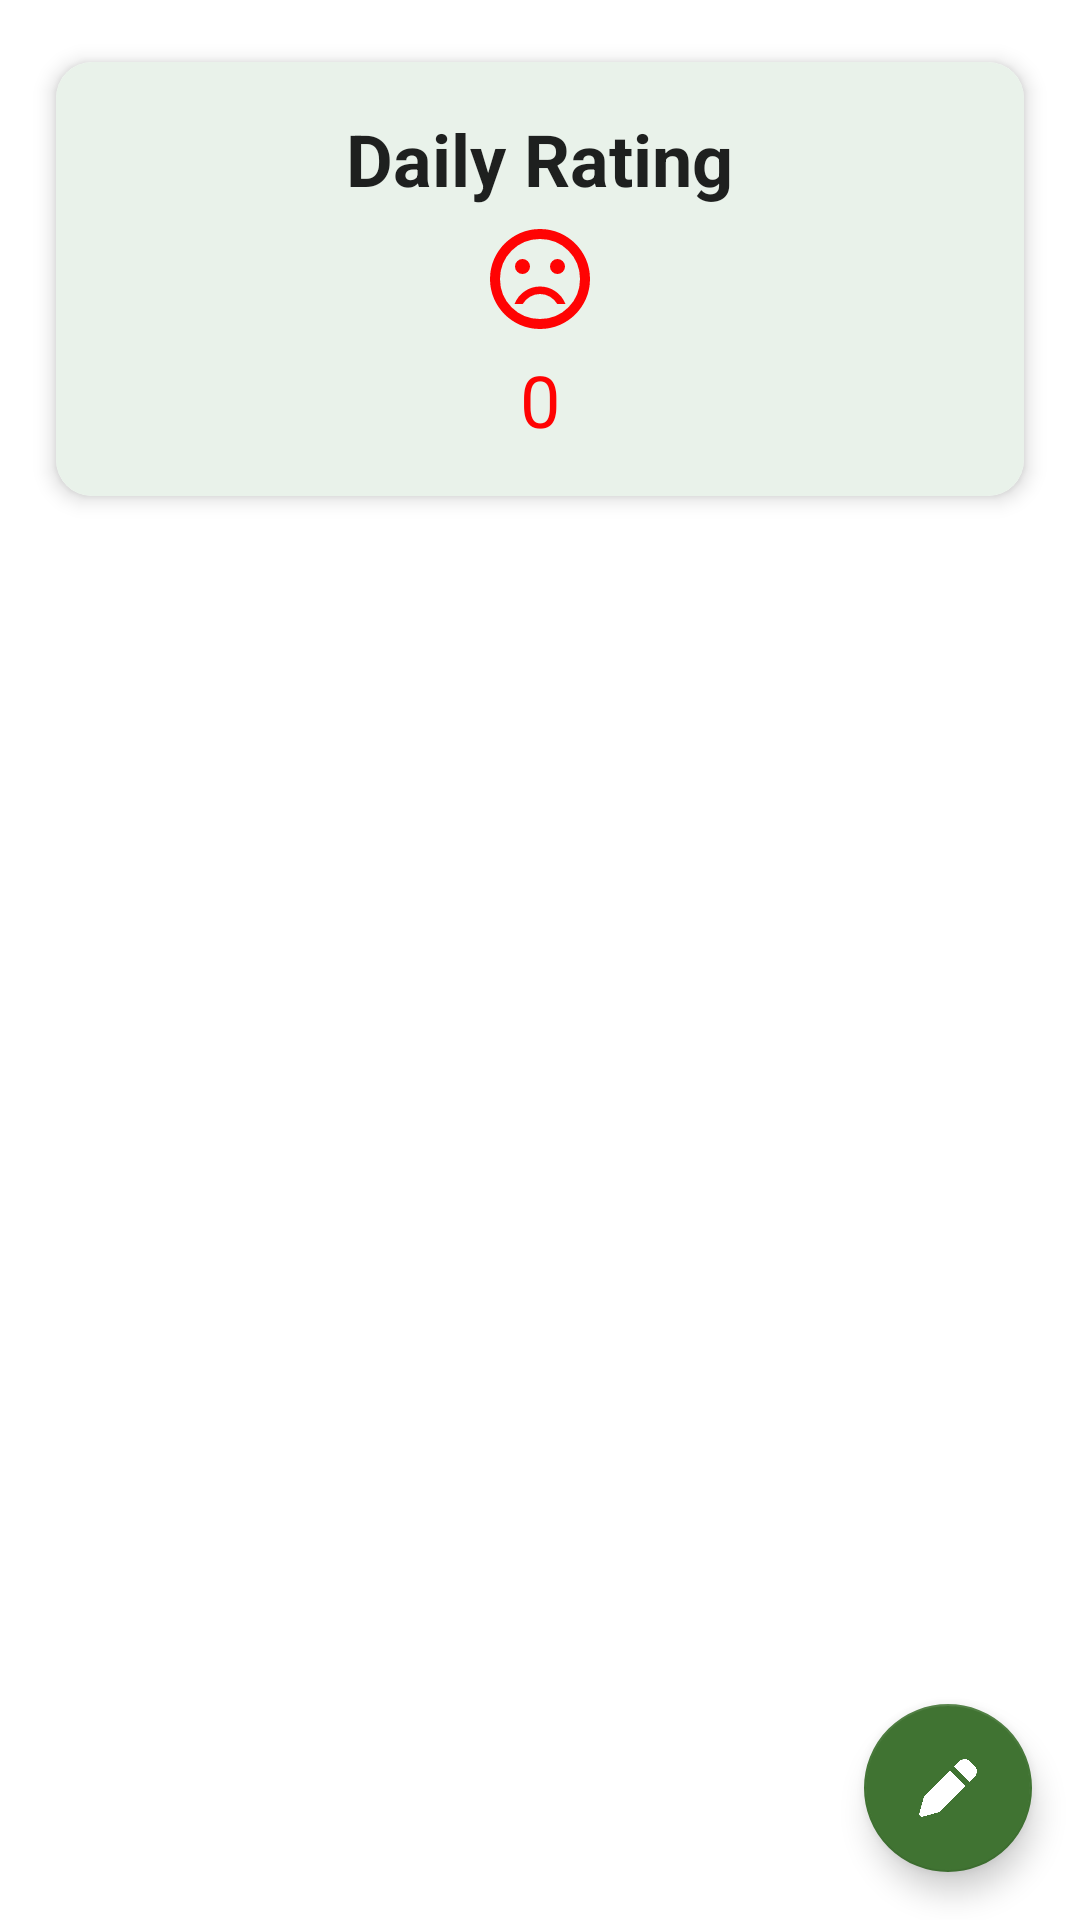

Screen size 1080×1920. Icon name, then its center in pixels as (x=x, y=y):
Edit habits: (x=948, y=1788)
Rating face: (x=540, y=279)
